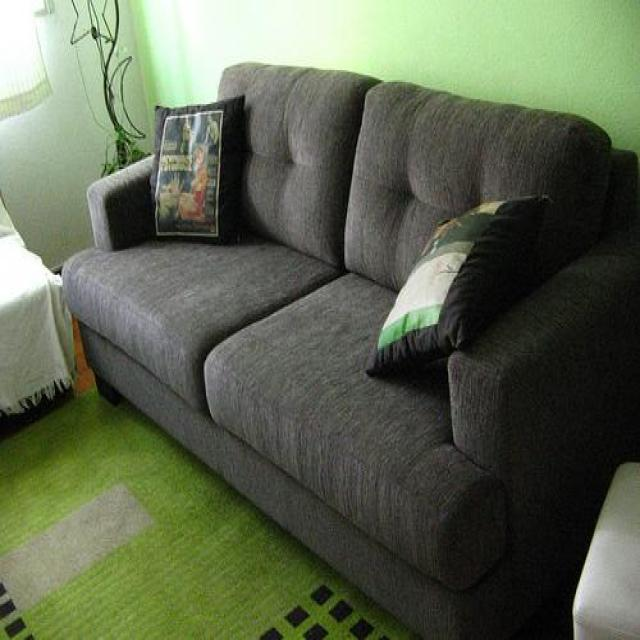sofa: (57, 54, 640, 640)
